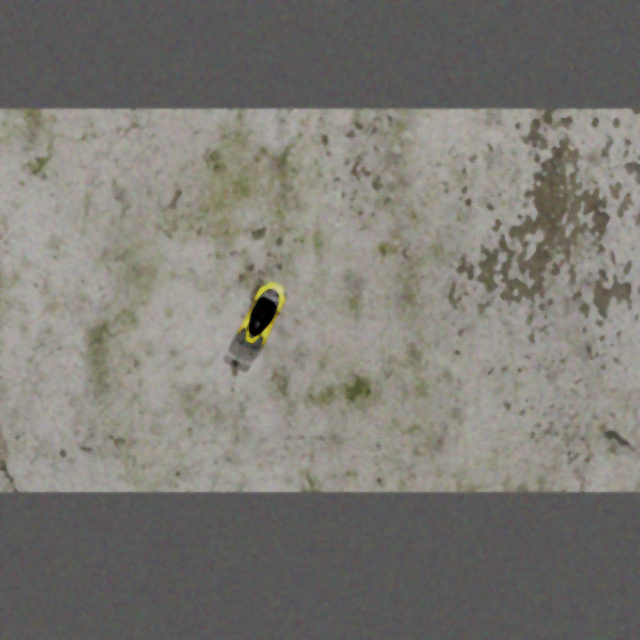car: (231, 276, 292, 355)
